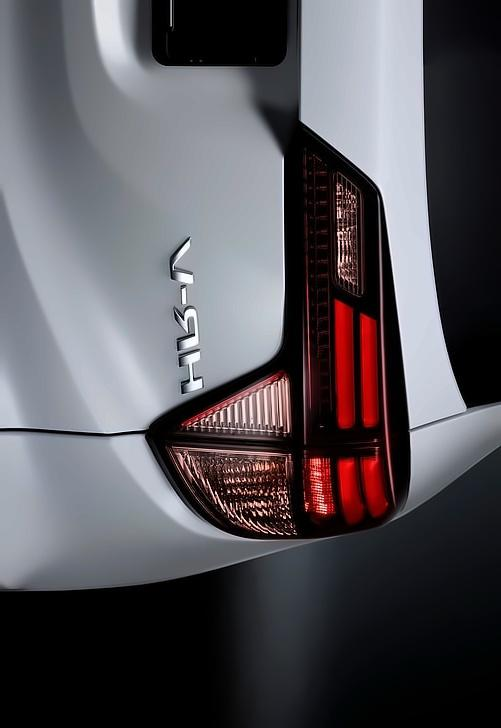Car boot: (0, 0, 466, 452)
Rear light - -R-: (143, 120, 416, 540)
